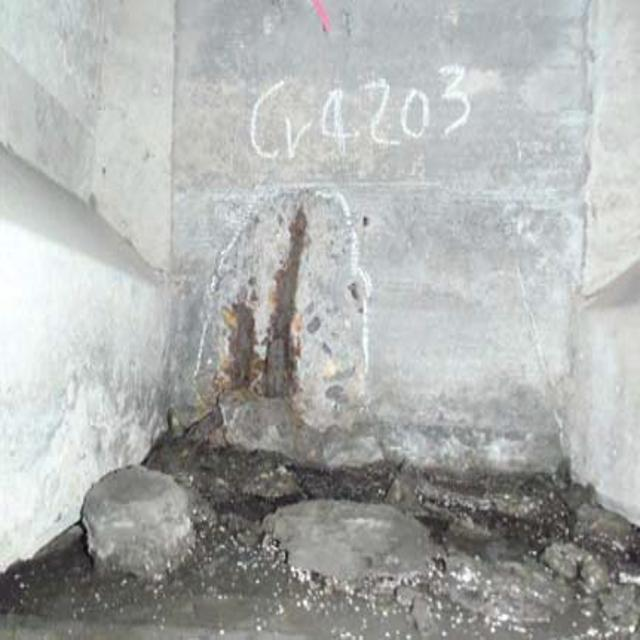spalling: (184, 184, 377, 453)
